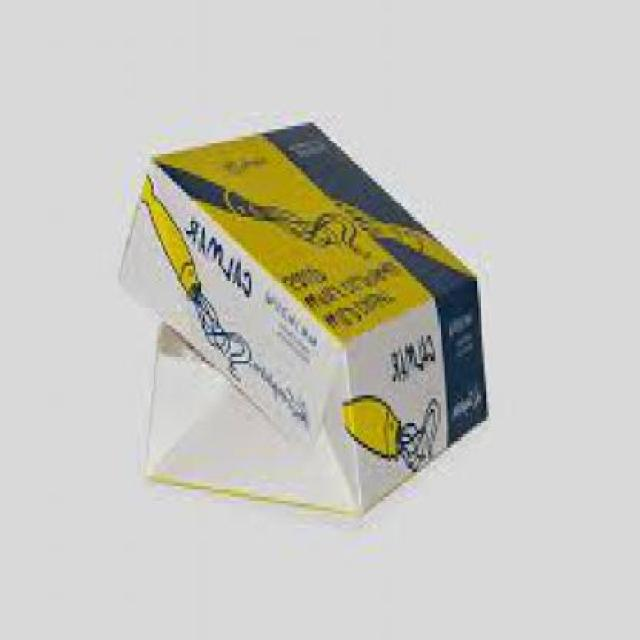CARDBOARD: (121, 119, 488, 522), (149, 318, 365, 518)
